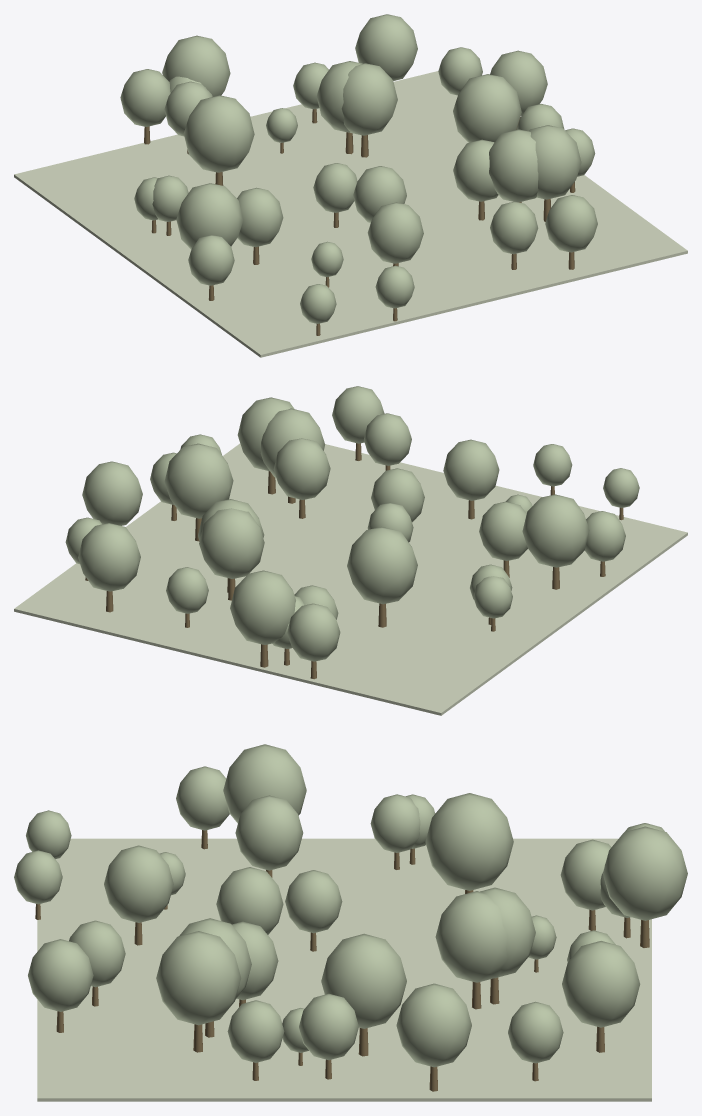
The picture shows the model from 3 angles, top to bottom: view 1: azimuth 30°, elevation 25°; view 2: azimuth 150°, elevation 25°; view 3: azimuth 270°, elevation 25°; orthographic projection. The views are drawn at different scales.
Parts seen in each view (by area): view 1: terrain, lod-near-29, lod-near-10, lod-near-7, lod-near-11, lod-near-25, lod-near-5, lod-near-28, lod-near-1, lod-near-13, lod-near-14, lod-near-9 (+19 smaller); view 2: terrain, lod-near-29, lod-near-10, lod-near-11, lod-near-1, lod-near-26, lod-near-5, lod-near-19, lod-near-8, lod-near-13, lod-near-9, lod-near-30 (+16 smaller); view 3: terrain, lod-near-29, lod-near-1, lod-near-28, lod-near-10, lod-near-5, lod-near-7, lod-near-19, lod-near-11, lod-near-13, lod-near-30, lod-near-14 (+18 smaller).
Boxes of the visible parts, <box> form: terrain: <box>14,71,687,357</box>; lod-near-29: <box>183,95,254,172</box>; lod-near-10: <box>453,74,521,142</box>; lod-near-7: <box>341,63,397,135</box>; lod-near-11: <box>176,183,243,249</box>; lod-near-25: <box>489,129,538,202</box>; lod-near-5: <box>355,14,417,80</box>; lod-near-28: <box>529,125,581,199</box>; lod-near-1: <box>162,35,230,96</box>; lod-near-13: <box>367,202,423,263</box>; lod-near-14: <box>545,195,597,252</box>; lod-near-9: <box>120,69,170,126</box>; terrain: <box>14,443,687,715</box>; lod-near-29: <box>347,527,417,604</box>; lod-near-10: <box>164,443,233,518</box>; lod-near-11: <box>522,494,589,567</box>; lod-near-1: <box>230,570,295,644</box>; lod-near-26: <box>199,508,264,578</box>; lod-near-5: <box>78,523,140,591</box>; lod-near-19: <box>82,461,142,525</box>; lod-near-8: <box>273,438,330,499</box>; lod-near-13: <box>443,439,499,500</box>; lod-near-9: <box>287,603,340,661</box>; lod-near-30: <box>479,501,527,560</box>; terrain: <box>37,838,651,1101</box>; lod-near-29: <box>425,793,513,890</box>; lod-near-1: <box>602,826,687,920</box>; lod-near-28: <box>156,931,241,1025</box>; lod-near-10: <box>321,933,406,1028</box>; lod-near-5: <box>562,941,640,1027</box>; lod-near-7: <box>435,891,508,982</box>; lod-near-19: <box>396,983,471,1067</box>; lod-near-11: <box>223,744,306,823</box>; lod-near-13: <box>104,845,173,922</box>; lod-near-30: <box>235,795,303,870</box>; lod-near-14: <box>28,939,93,1011</box>.
Bounding box in the file's own units: 33.3 × 7.27 × 35.1.
